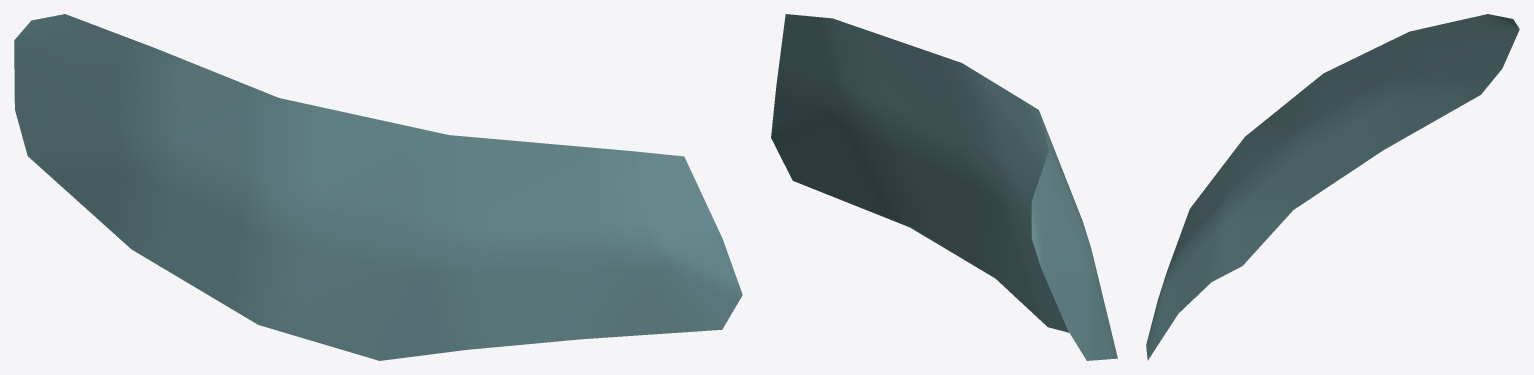
Rendered from SUV_1_Window_Light_P_Tessellate.fbx.
3 views of the same model, side by side, from view 1: azimuth 30°, elevation 25°; view 2: azimuth 150°, elevation 25°; view 3: azimuth 270°, elevation 25° (orthographic). The views are drawn at different scales.
Parts seen in each view (by area): view 1: SUV_1_Window_Light_P_Tessellate; view 2: SUV_1_Window_Light_P_Tessellate; view 3: SUV_1_Window_Light_P_Tessellate.
Boxes of the visible parts, x1,y1,x2,y2 form: SUV_1_Window_Light_P_Tessellate: [14, 14, 742, 360]; SUV_1_Window_Light_P_Tessellate: [771, 14, 1117, 360]; SUV_1_Window_Light_P_Tessellate: [1146, 14, 1519, 360].
Size of the model in its own units: 32.41 by 16.62 by 28.54.
